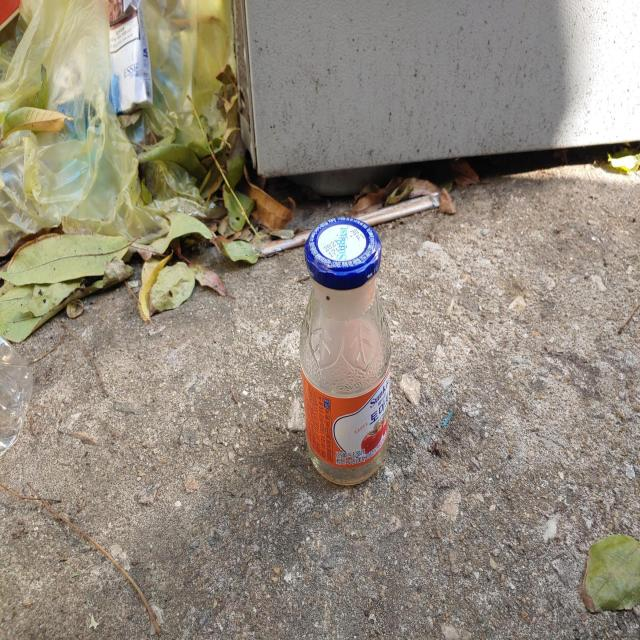glass: (300, 217, 391, 485)
